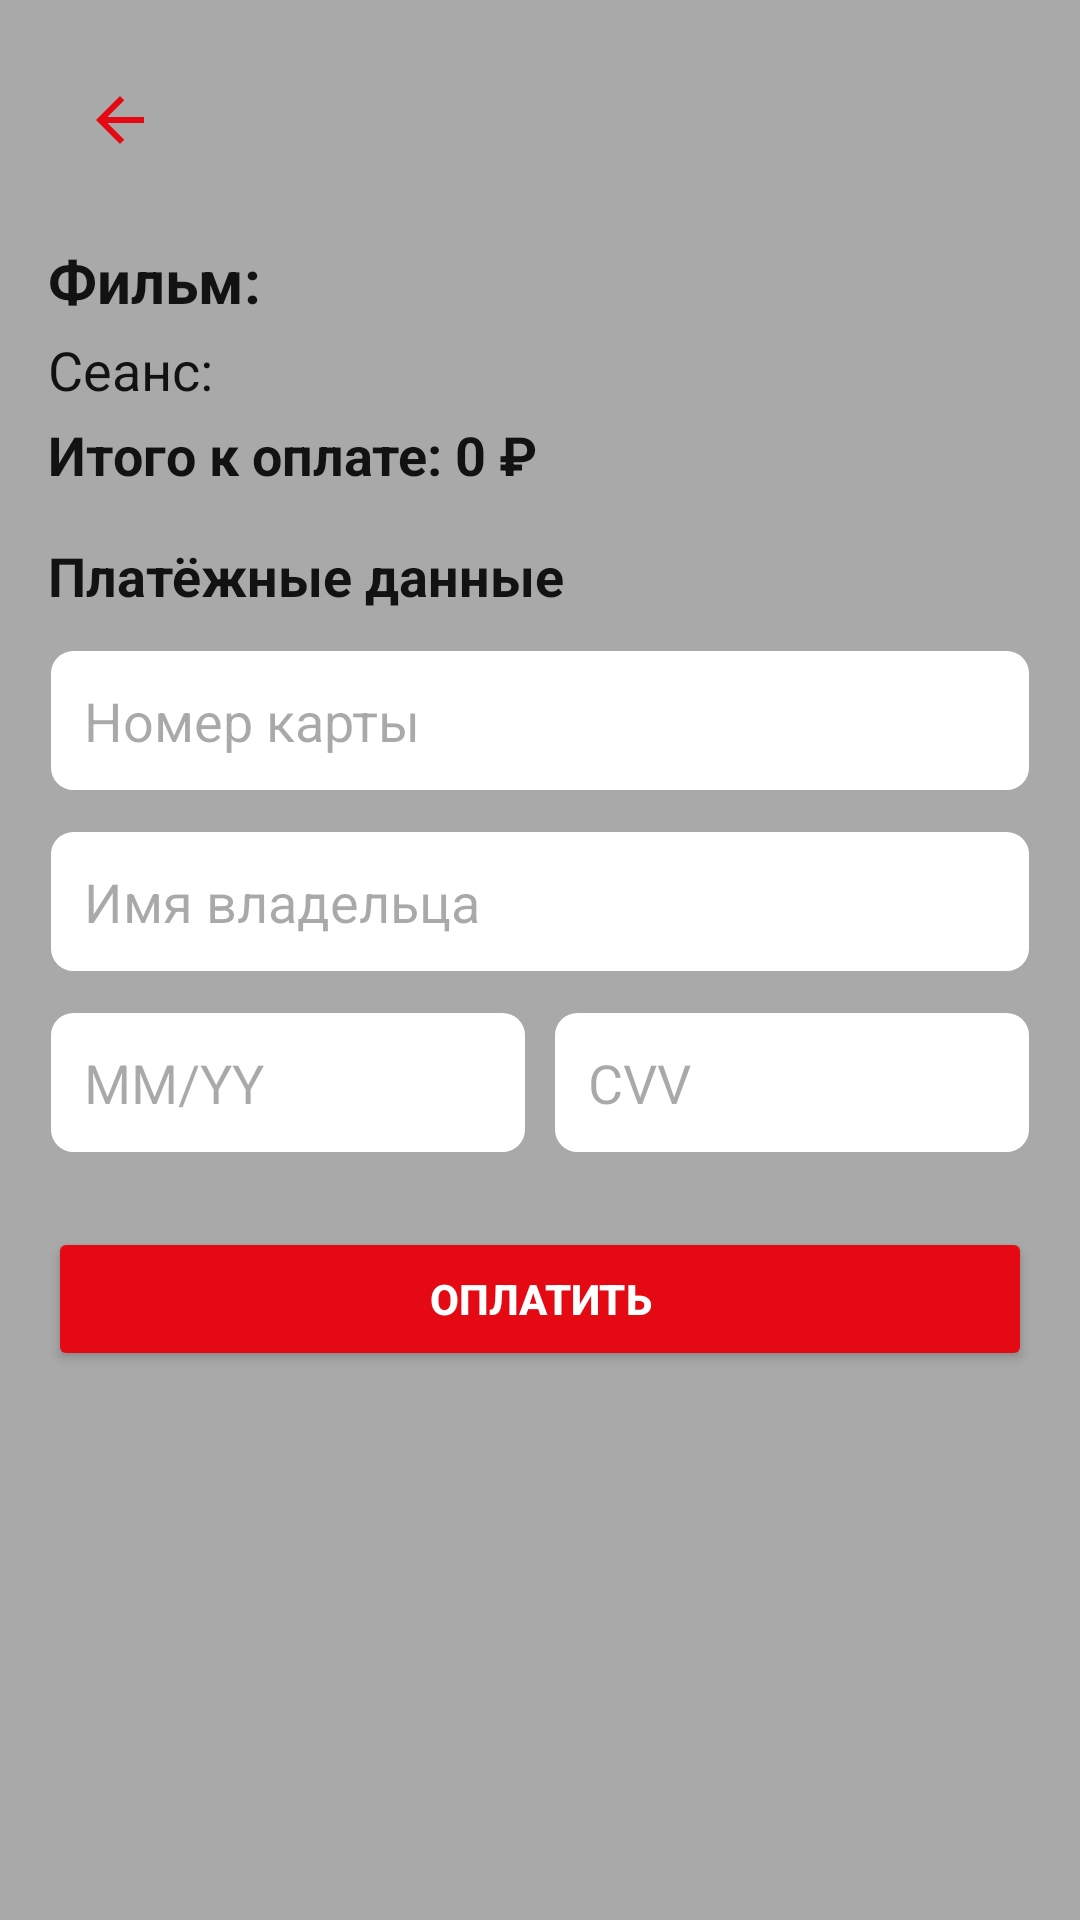

Where to tap for icons on this 1080*1920 app screen, as [x,y]:
Назад: [120,120]
